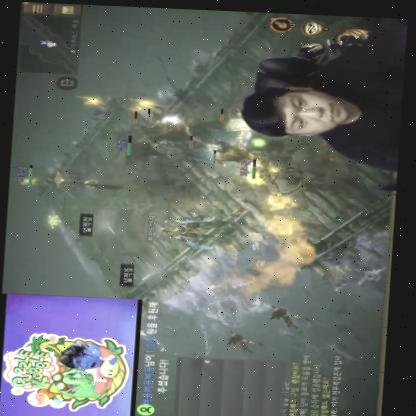donation: (3, 291, 180, 416)
streamer: (240, 19, 405, 165)
